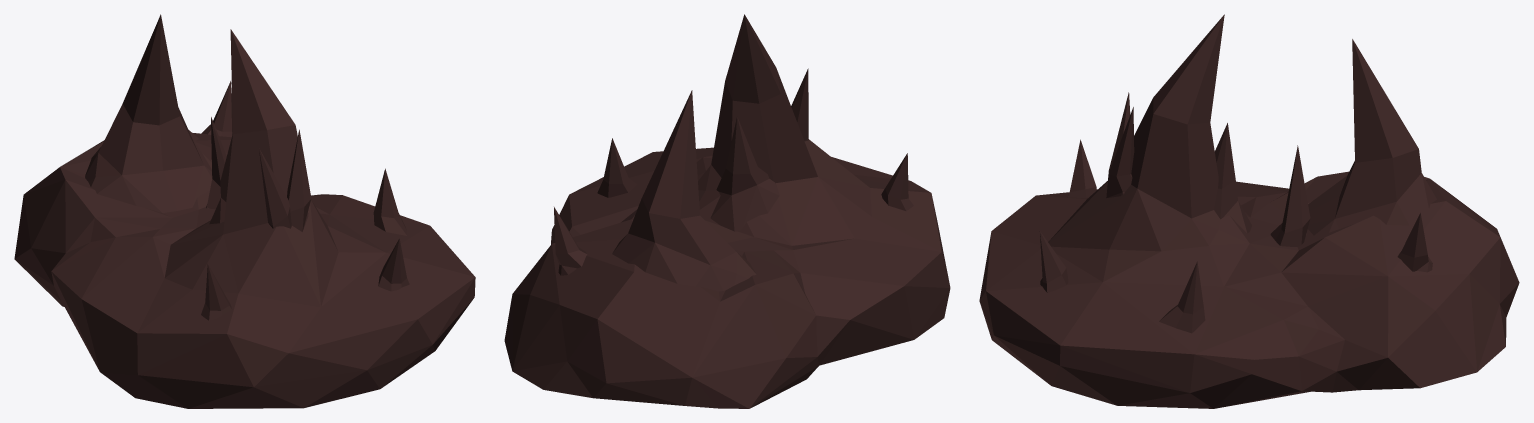
The model's file is NIO--valcanoRock3.fbx.
3 views of the same model, side by side, from view 1: azimuth 30°, elevation 25°; view 2: azimuth 150°, elevation 25°; view 3: azimuth 270°, elevation 25° (orthographic). The views are drawn at different scales.
Parts seen in each view (by area): view 1: NIO-ValcanoStone5; view 2: NIO-ValcanoStone5; view 3: NIO-ValcanoStone5.
Boxes of the visible parts, <box> form: NIO-ValcanoStone5: <box>14,14,475,408</box>; NIO-ValcanoStone5: <box>504,14,950,408</box>; NIO-ValcanoStone5: <box>979,14,1519,408</box>.
Size of the model in its own units: 182 by 162 by 239.
